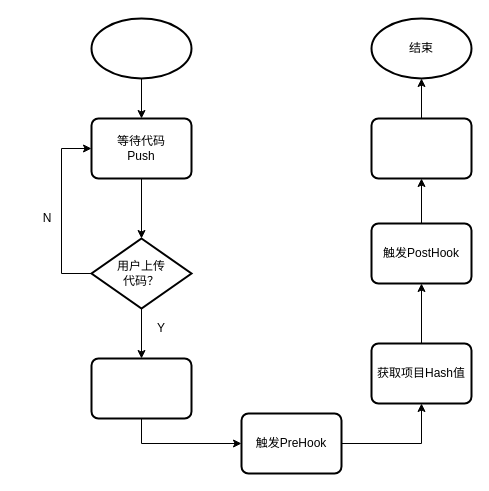
Image size: 489x491. Some labels were removed from this diagram. The box of each missing label's shape, as (x1, y1, x2, y2) in pixels:
Git Push 上传代码: (90, 357, 192, 419)
开始: (90, 17, 192, 79)
报告存储 以及其它功能: (370, 117, 472, 179)
